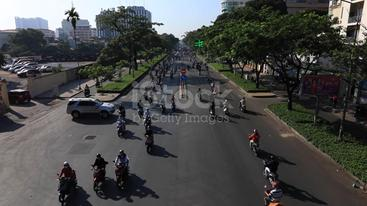car: (61, 95, 122, 127)
motorcycle: (50, 166, 85, 206), (255, 157, 285, 185), (88, 163, 112, 197), (109, 159, 135, 189), (246, 125, 260, 160), (259, 190, 288, 206), (141, 129, 158, 155), (206, 104, 218, 123), (234, 100, 249, 115), (142, 113, 154, 131), (135, 102, 146, 121), (168, 96, 179, 114), (159, 100, 167, 118), (222, 100, 230, 117), (147, 92, 154, 107)
